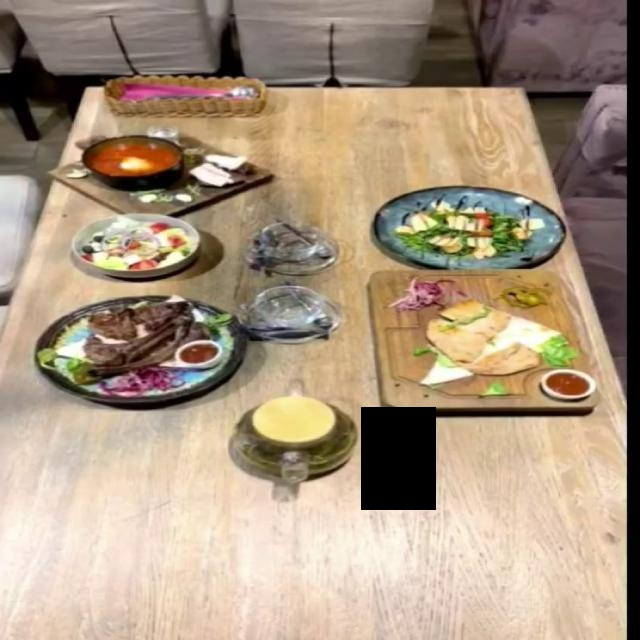meat: (360, 269, 603, 418), (31, 294, 246, 404)
salad: (375, 184, 568, 267), (67, 211, 198, 276)
soup: (65, 131, 254, 207)
tea: (230, 395, 359, 479)
